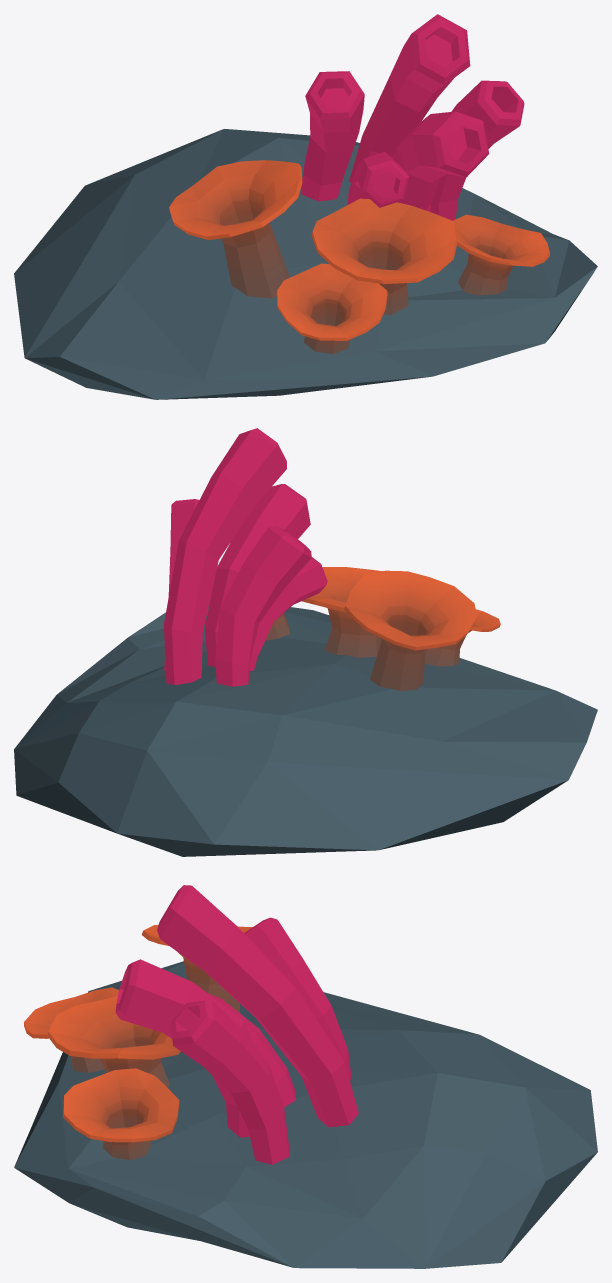
Rendered from Coralls_004.glb.
3 views of the same model, one above another, from view 1: azimuth 30°, elevation 25°; view 2: azimuth 150°, elevation 25°; view 3: azimuth 270°, elevation 25° (orthographic). The views are drawn at different scales.
Parts seen in each view (by area): view 1: Coralls_004; view 2: Coralls_004; view 3: Coralls_004.
Part boxes in pixels (bbox=[...]): Coralls_004: bbox=[14, 14, 597, 399]; Coralls_004: bbox=[14, 428, 597, 856]; Coralls_004: bbox=[14, 885, 597, 1268].
Size of the model in its own units: 2.06 by 1.25 by 1.88.
Materials: 2 (2 with a texture image).
